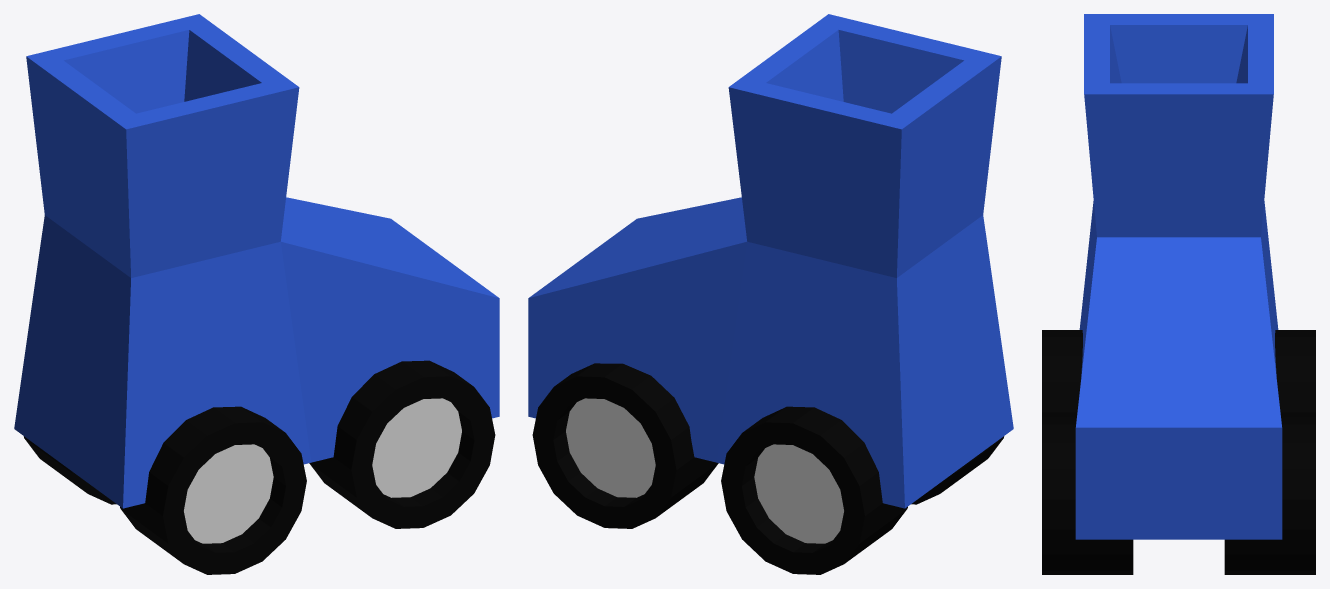
File: bootsBomber.fbx
The picture shows the model from 3 angles, left to right: view 1: azimuth 30°, elevation 25°; view 2: azimuth 150°, elevation 25°; view 3: azimuth 270°, elevation 25°; orthographic projection. The views are drawn at different scales.
Parts seen in each view (by area): view 1: Cube; view 2: Cube; view 3: Cube.
Boxes of the visible parts, box(x1,y1,x2,y2) form: Cube: box(14, 14, 499, 574); Cube: box(528, 14, 1013, 574); Cube: box(1042, 14, 1315, 574).
Size of the model in its own units: 400 by 456 by 265.
